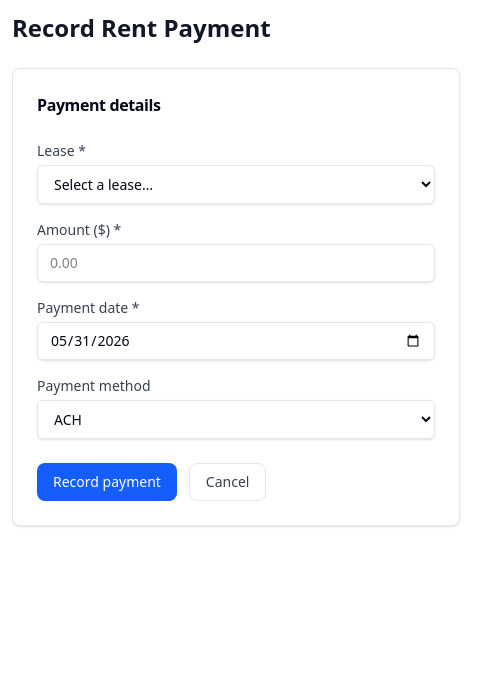
Scenario: RentCollectionPage › shows E1 (token-fetch-error) when CSRF endpoint unreachable
The image size is (477, 690).
Select "Maria Santos — 150 Lexington Ct ($1,250/mo)" in the dropdown labelled "Lease *" at (236, 184), box x1=37 y1=165 x2=435 y2=204
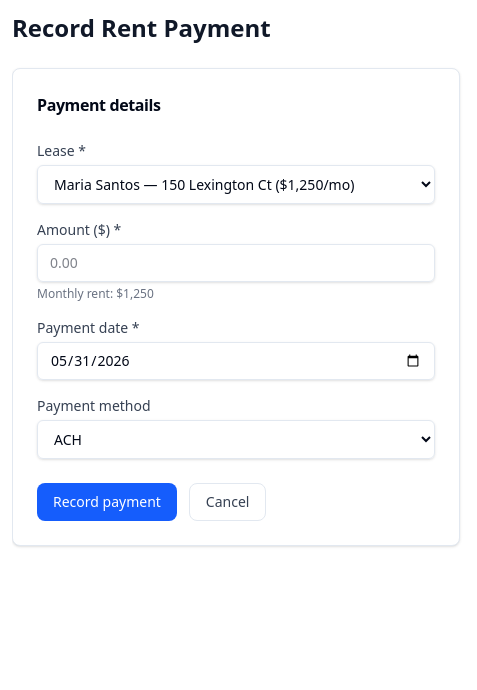
Type "1250" into the number field labelled "Amount ($) *" at (236, 263), box x1=37 y1=244 x2=435 y2=282
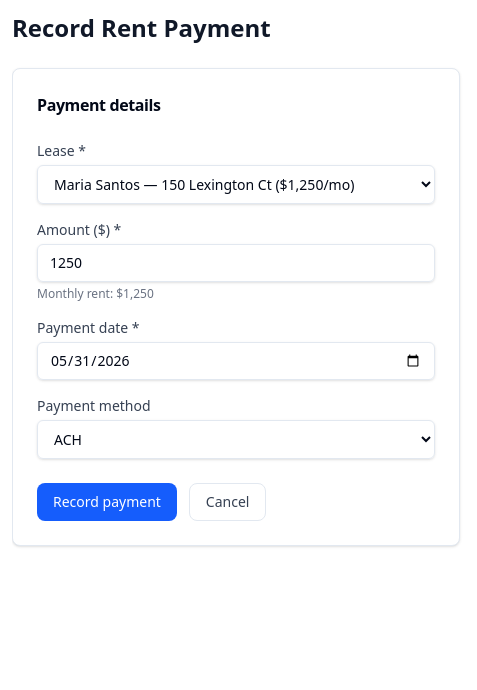
Submit the form named "record payment", box x1=37 y1=141 x2=435 y2=521
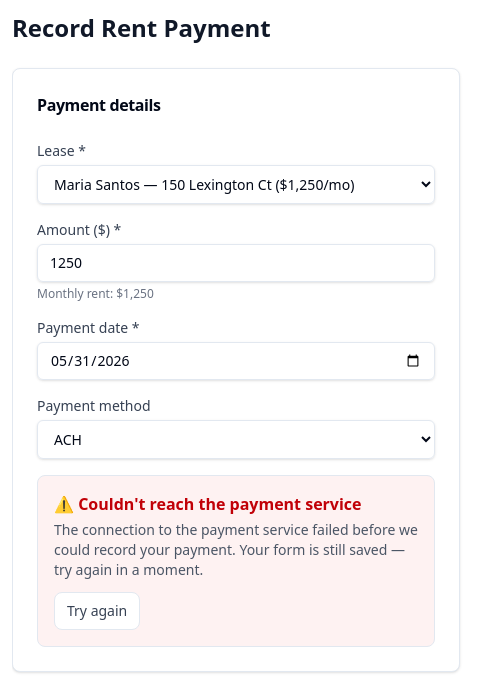
Check: the message is shown, box x1=37 y1=475 x2=435 y2=647
Check: the text "⚠ Couldn't reach the payment service" is shown, box x1=54 y1=493 x2=362 y2=515
Check: the button "Try again" is shown, box x1=54 y1=592 x2=140 y2=630
